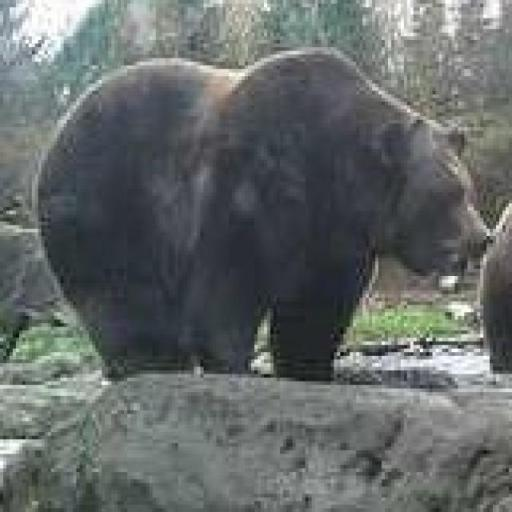Elephant: (32, 44, 490, 381)
